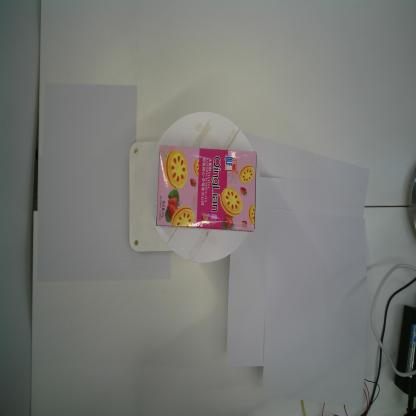Dessert: (156, 144, 258, 233)
